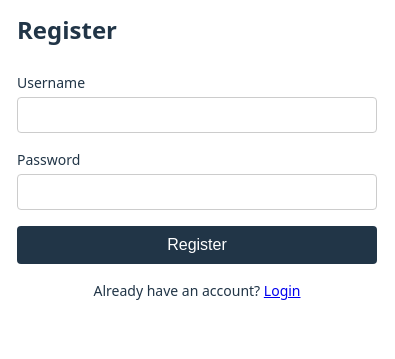
Test: registerPage › shows validation error for invalid username chars
Type "bad user!" into the field labelled "Username" at (197, 115), box [17, 97, 377, 133]
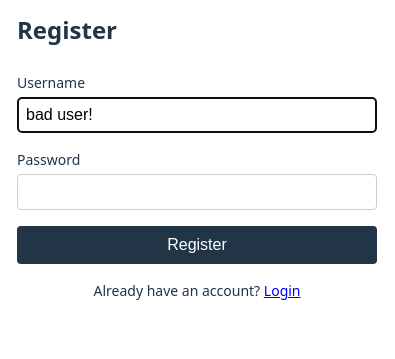
Type "password123" into the password field labelled "Password" at (197, 192), box [17, 174, 377, 210]
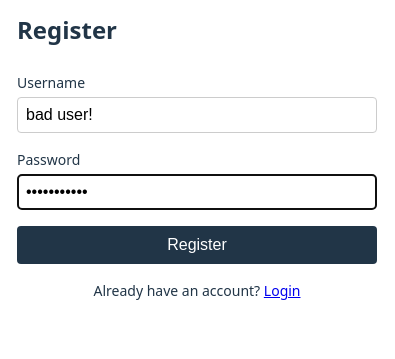
Click the button "Register" at (197, 245), box [17, 226, 377, 264]
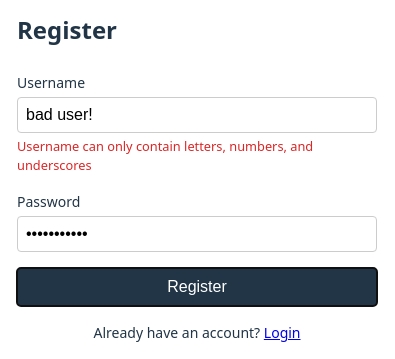
Result: the text "Username can only contain letters, numbers, and underscores" is shown at [17, 137, 313, 174]
